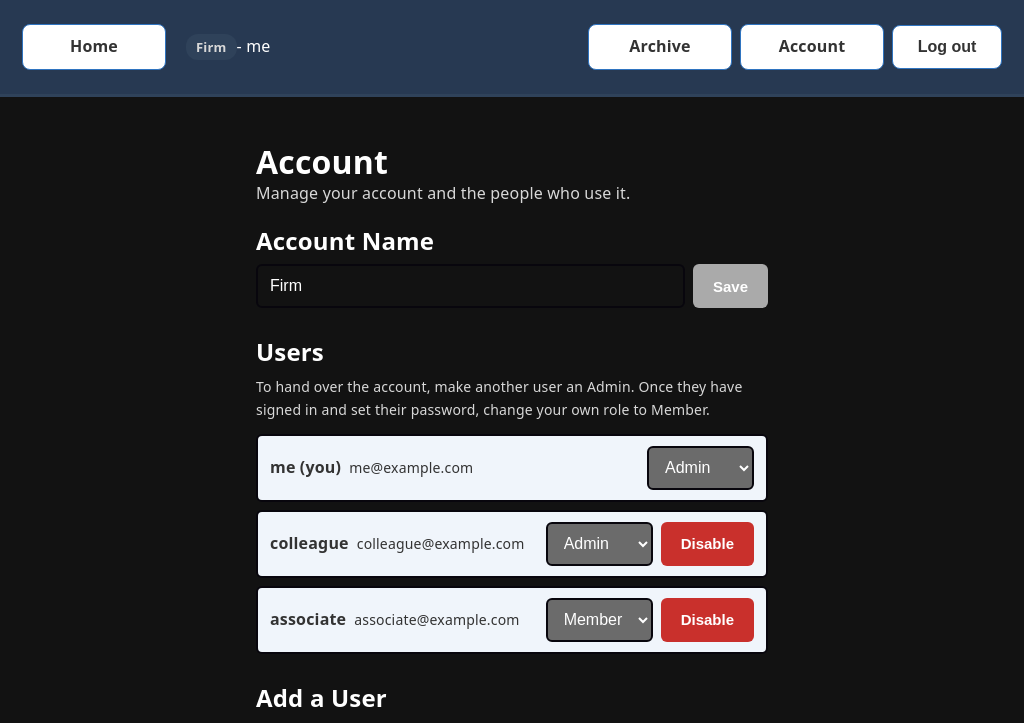
Test: AccountScreen admin handoff › shows the refusal on your row and keeps you here when the server says no
Expected: the text "colleague" is shown, x1=270 y1=532 x2=349 y2=555
Select "Member" in the dropdown named "Role for me" at (700, 468), box x1=647 y1=446 x2=754 y2=490
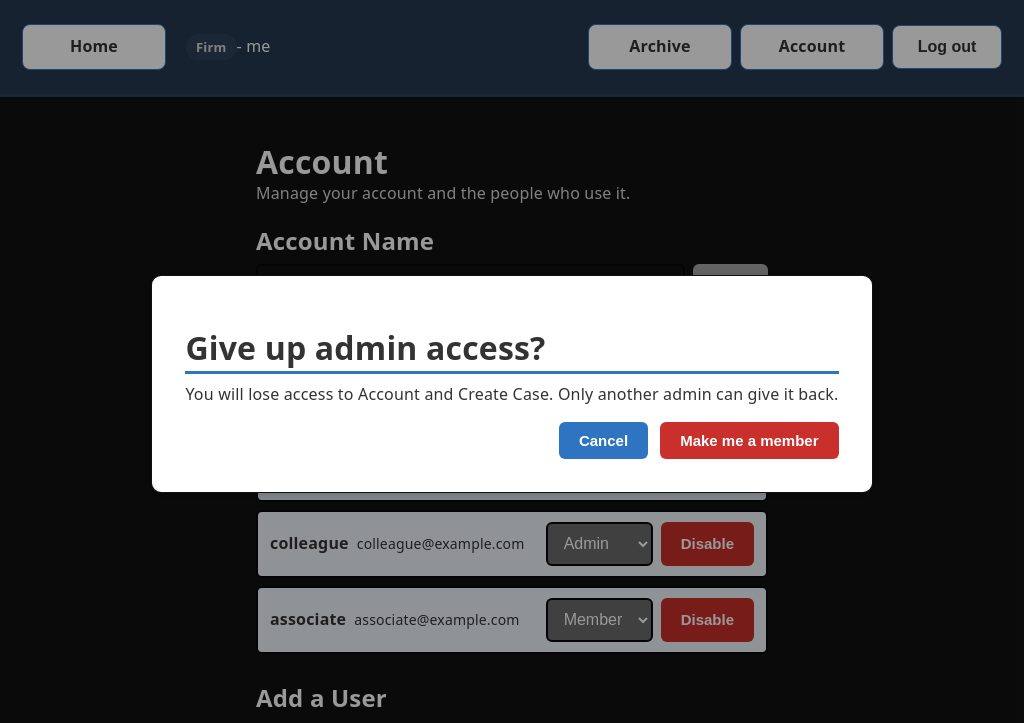
Click the button "Make me a member" at (749, 440), box x1=660 y1=422 x2=838 y2=459
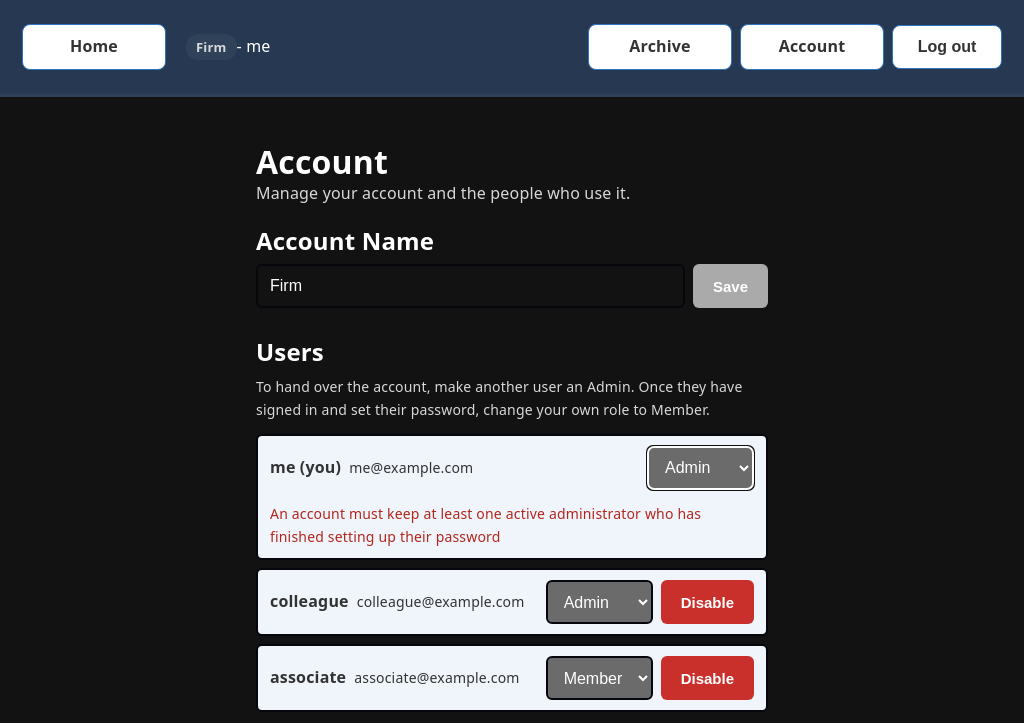
Expected: the message shows "An account must keep at least one active administrator who has finished setting up their password", x1=270 y1=504 x2=701 y2=546
Expected: the dialog is gone
